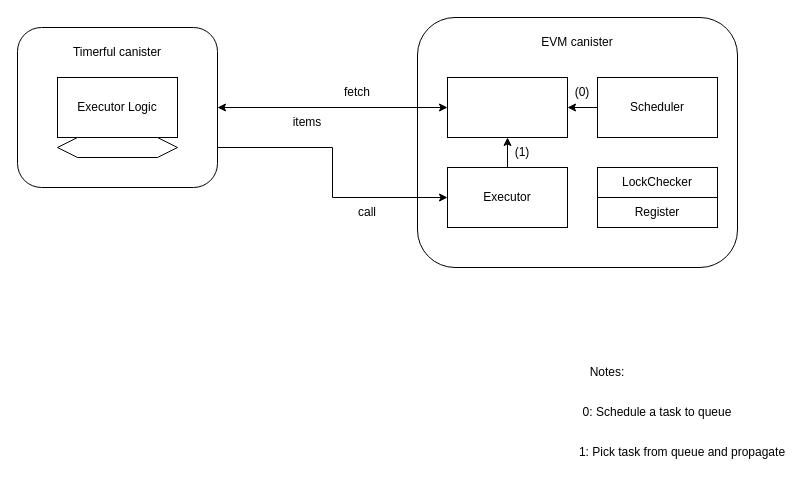
This 805x485 diagram has some shape labels left out. Each missing label, with the centre of its shape:
1s sync: [117,147]
Queue: [507,107]
